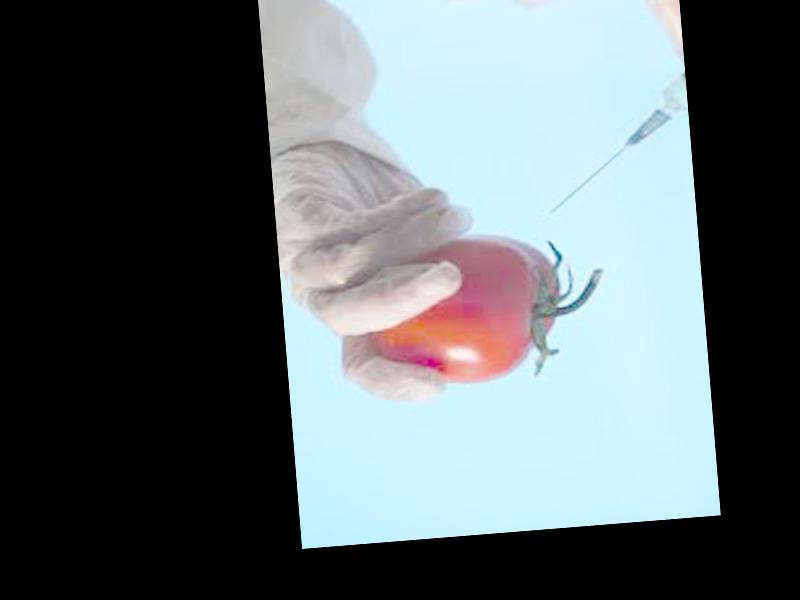Tomato: (362, 231, 566, 391)
